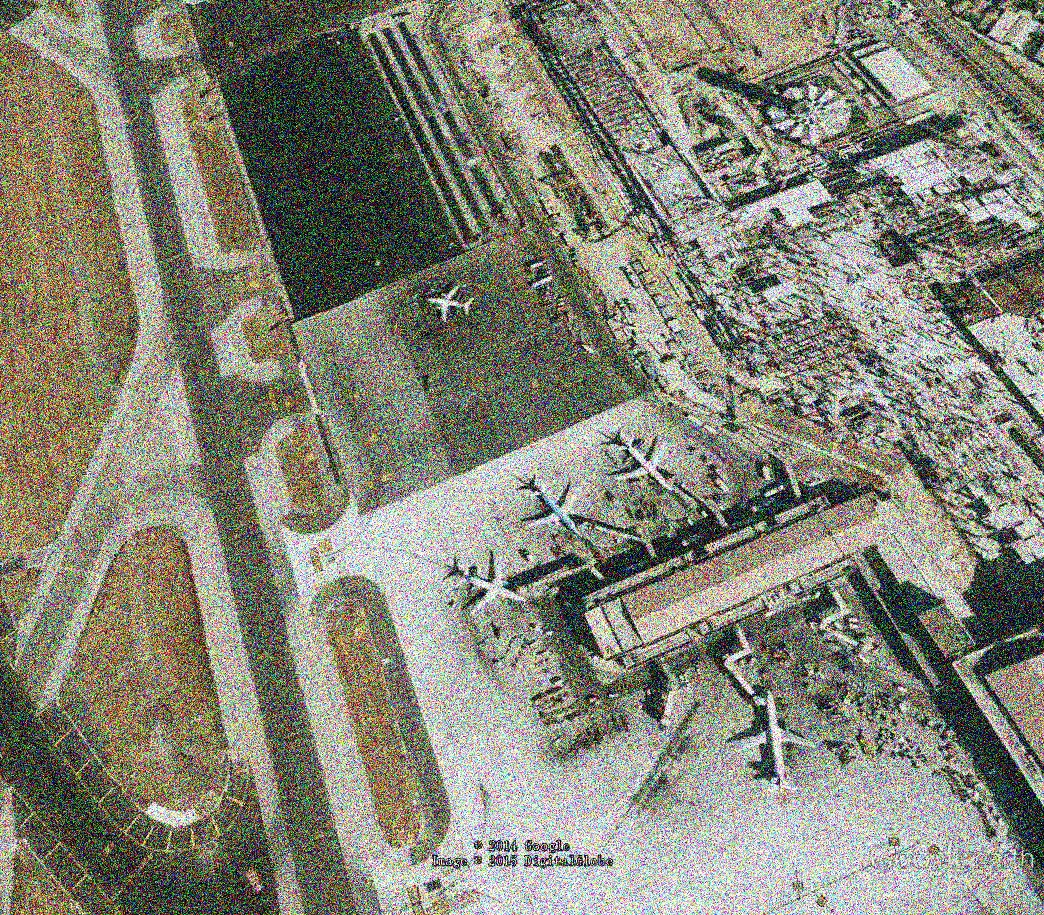aircraft: (731, 684, 819, 796), (452, 553, 529, 619), (522, 479, 586, 541), (610, 431, 670, 493), (423, 280, 484, 327)
